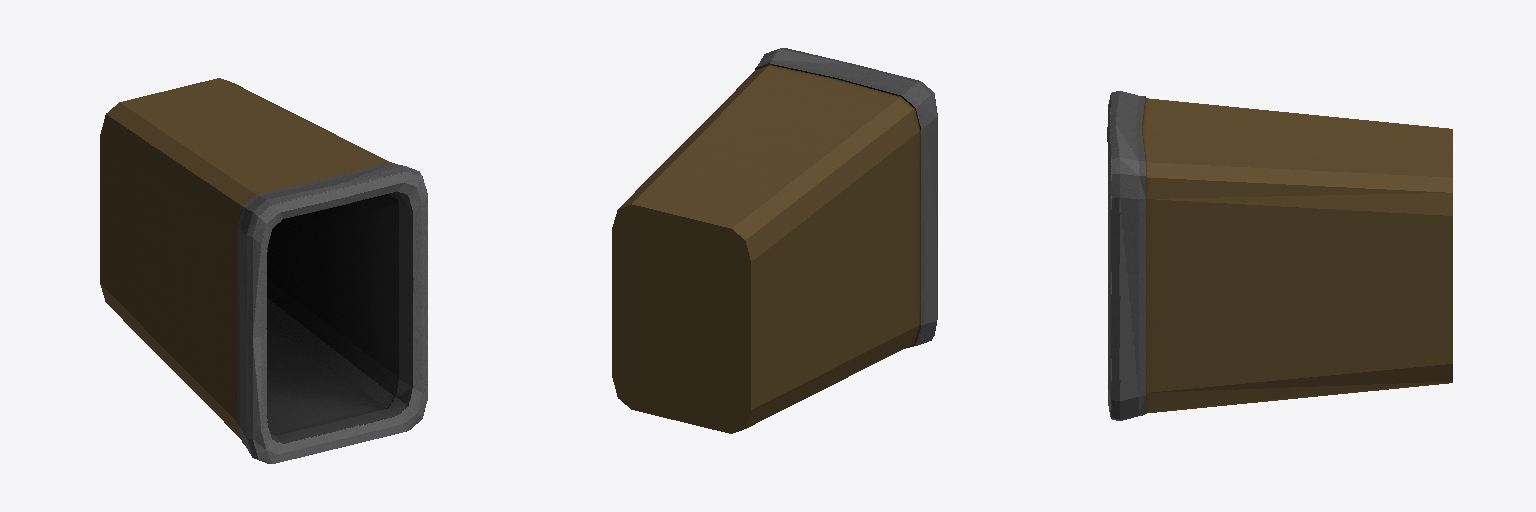
3 renders of one model, left to right at view 1: azimuth 30°, elevation 25°; view 2: azimuth 150°, elevation 25°; view 3: azimuth 270°, elevation 25°, orthographic.
Visible parts, largest first — view 1: bin_Cube.001; view 2: bin_Cube.001; view 3: bin_Cube.001.
Part boxes in pixels (left/top/right/bottom): bin_Cube.001: left=100, top=78, right=427, bottom=463; bin_Cube.001: left=612, top=48, right=937, bottom=433; bin_Cube.001: left=1107, top=91, right=1452, bottom=420.
Bounding box in the file's own units: 0.2659 × 0.3754 × 0.4461.
Materials: 1 (1 with a texture image).